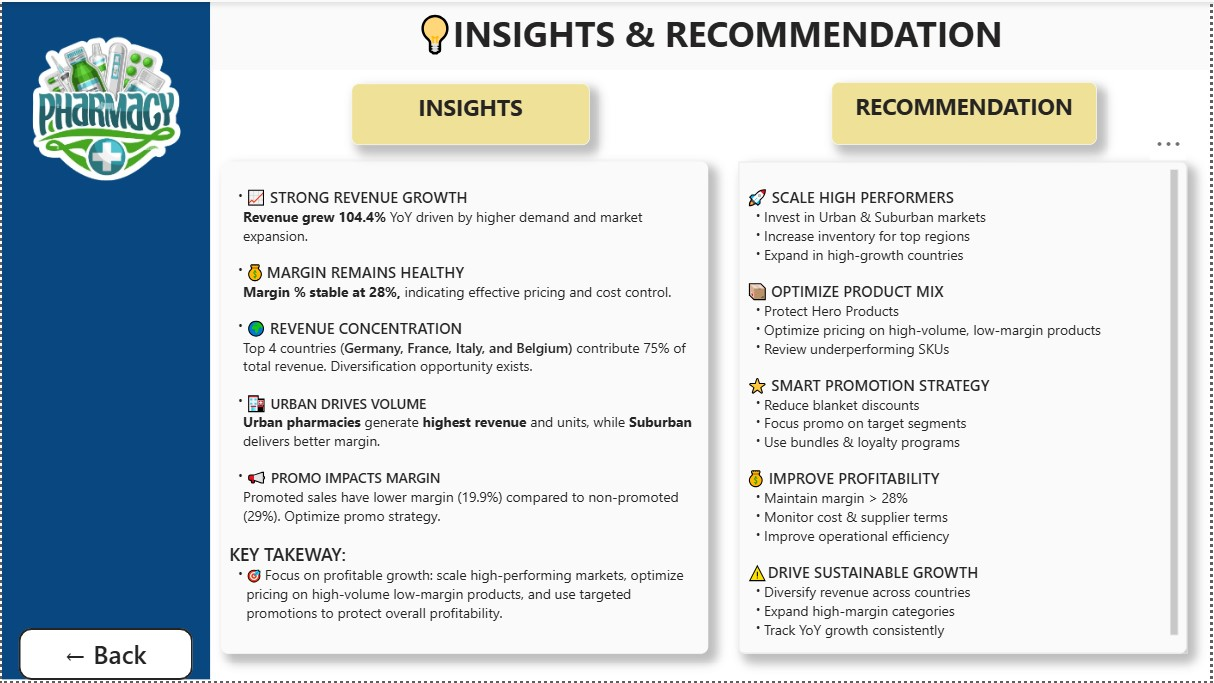

The dashboard page shown, as its layout file describes it:
{"tool":"powerbi","page":{"name":"Insight","canvas":[1280,720],"ordinal":4},"visuals":[{"type":"textbox","box":[10,199,220,150],"z":0},{"type":"textbox","box":[0,0,220.7,719.6],"z":1000},{"type":"image","box":[0,0,220.7,238.8],"z":2000},{"type":"actionButton","title":"Overview","box":[17.6,665,185,55],"z":3000},{"type":"textbox","box":[220.4,3.4,1059.1,70],"z":4000},{"type":"textbox","box":[232.2,170.2,517,521.7],"z":5000},{"type":"textbox","box":[781,170.2,475.6,521.7],"z":6000},{"type":"textbox","box":[370.6,87.5,252.9,65.2],"z":7000},{"type":"textbox","box":[879.6,85.9,281.5,66.8],"z":8000}]}

Visuals, with their boxes in screenshot pixels (x1, y1, x2, y2), scaled from the page's 1280x720 canvas onto the 1214x683 screenshot:
textbox: box(9, 189, 218, 331)
textbox: box(0, 0, 209, 682)
image: box(0, 0, 209, 227)
"Overview" actionButton: box(17, 631, 192, 682)
textbox: box(209, 3, 1213, 70)
textbox: box(220, 161, 711, 656)
textbox: box(741, 161, 1192, 656)
textbox: box(351, 83, 591, 145)
textbox: box(834, 81, 1101, 145)
